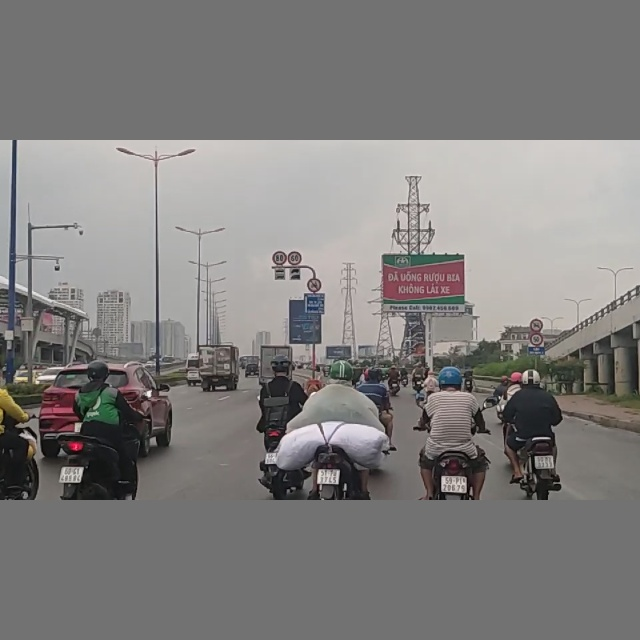P.103a: (529, 318, 543, 331)
P.104: (307, 278, 325, 291)
P.127*50: (529, 334, 543, 346)
P.127*60: (288, 251, 303, 265)
P.127*80: (272, 251, 286, 265)
